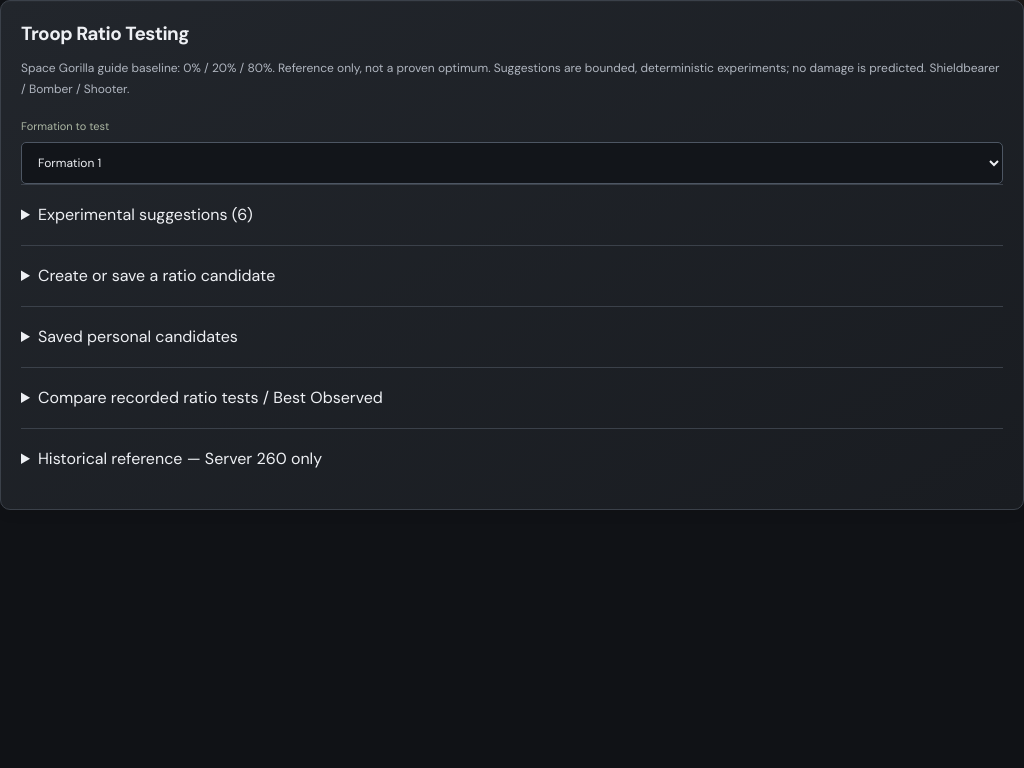
Test: shows comparable evidence and Best Observed, excluding other profiles and servers
Click the heading "Compare recorded ratio tests / Best Observed".
click(210, 398)  # box [38, 387, 383, 408]
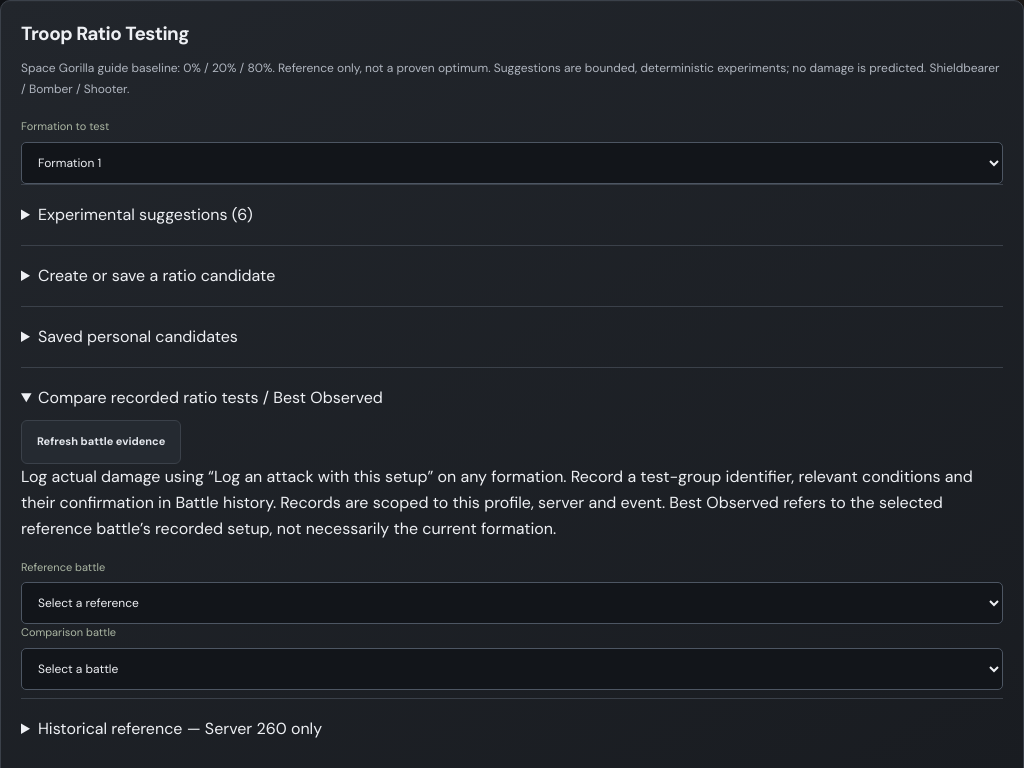
Select "2026-10-24 · 100 · individual" in the dropdown labelled "Reference battle" at (512, 603), box [21, 582, 1003, 624]
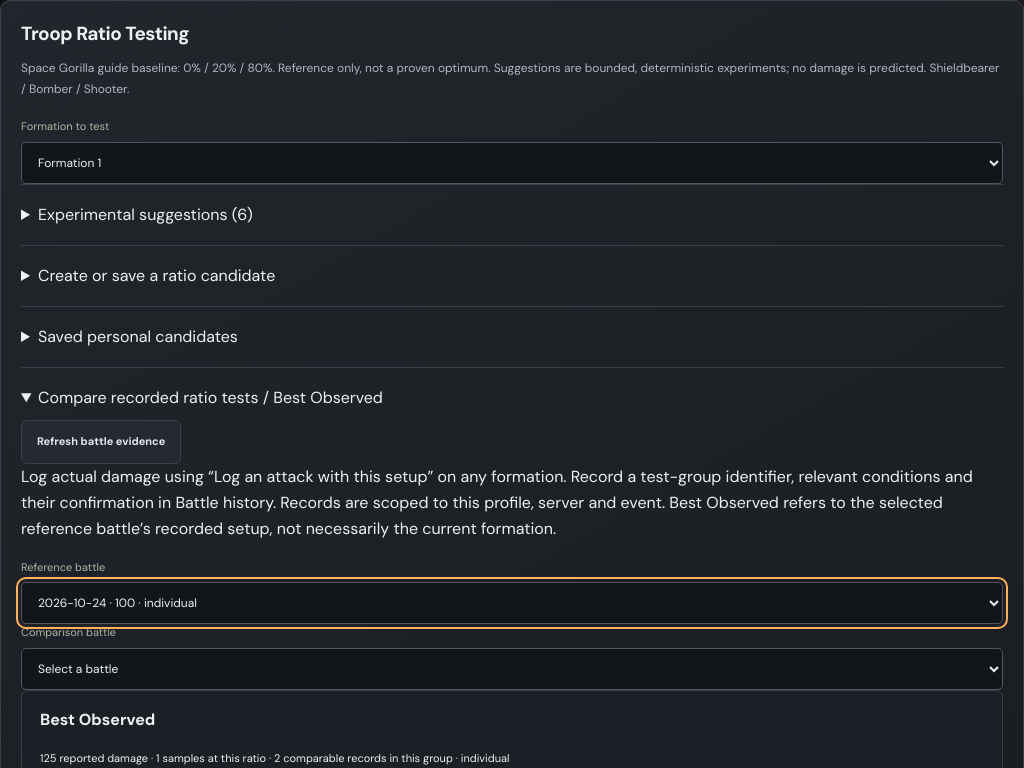
Select "2026-10-24 · 125 · individual" in the dropdown labelled "Comparison battle" at (512, 669), box [21, 648, 1003, 690]
(page scrolled)
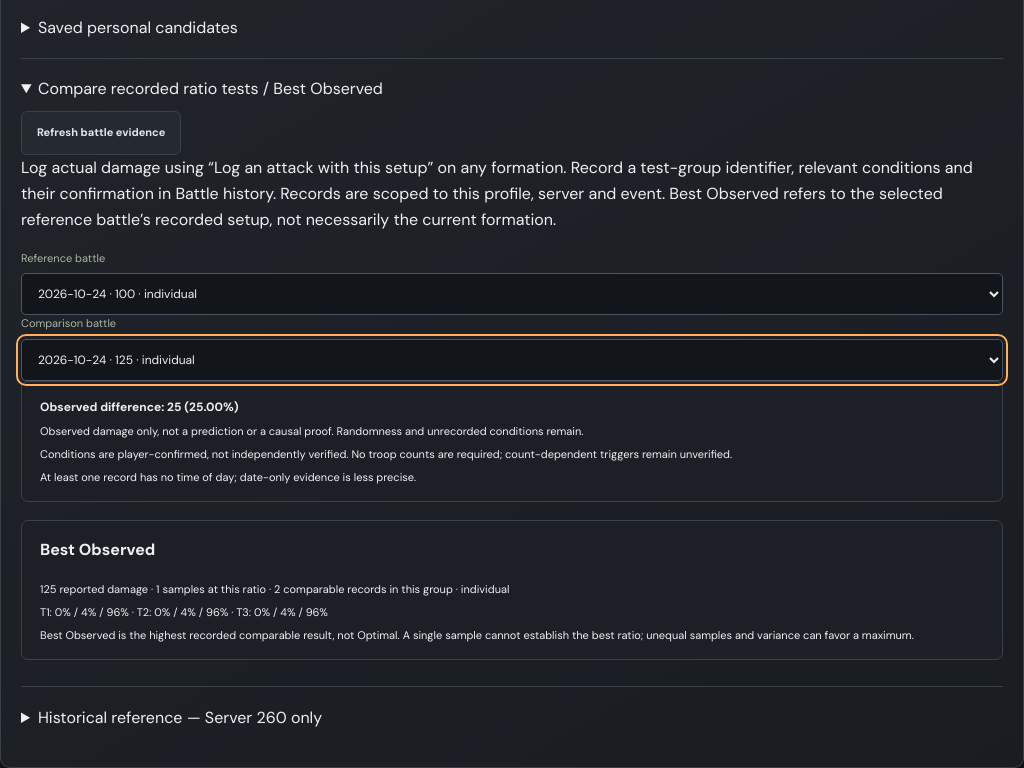
expect the heading "Best Observed" is shown: met, box [40, 540, 155, 560]
expect the text "125 reported damage · 1 samples at this ratio · 2 comparable records" is shown: met, box [40, 582, 509, 596]
expect the text "Observed difference: 25 (25.00%)" is shown: met, box [40, 399, 239, 415]
